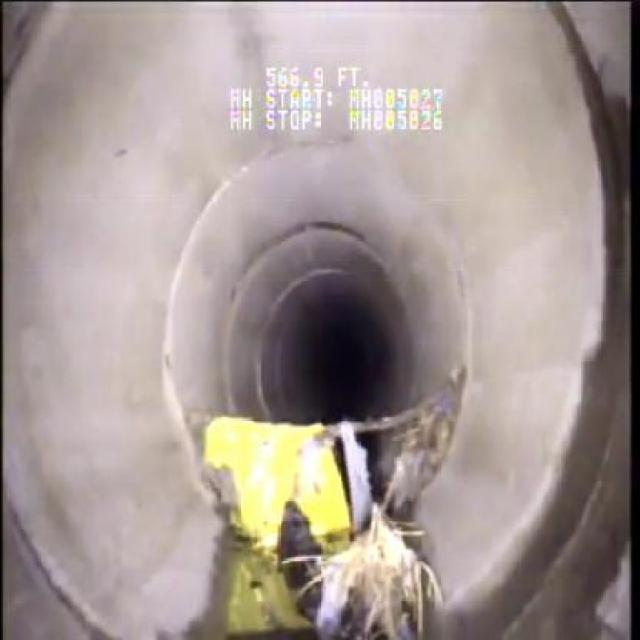Obstacle: (192, 391, 425, 638)
